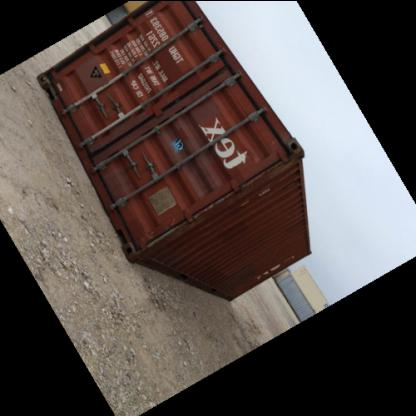Damage: (241, 162, 286, 192), (140, 221, 188, 245), (190, 188, 232, 214), (91, 156, 115, 170)
